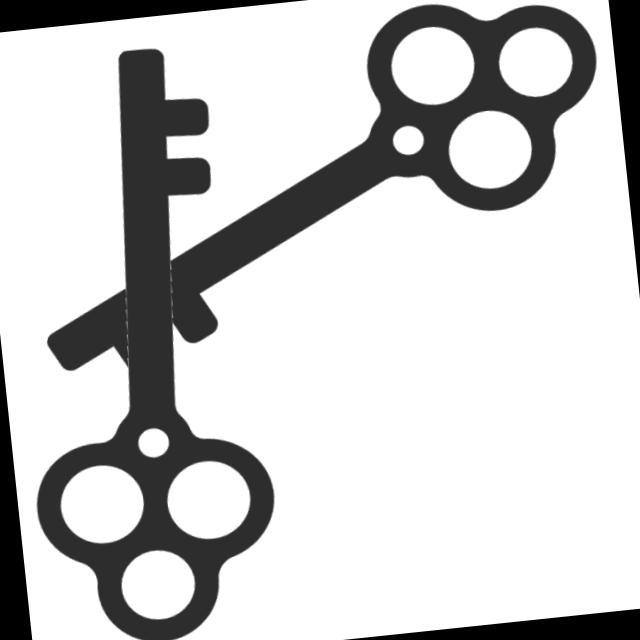key: (24, 1, 619, 423), (1, 25, 304, 640)
